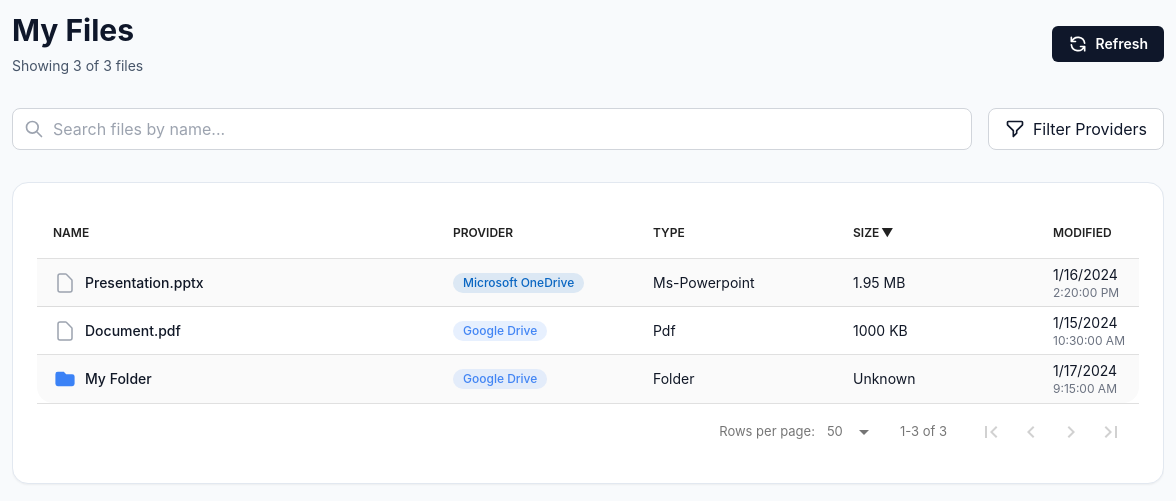
FilesPage › filters files by provider
Expected: the text "Document.pdf" is shown, [85,320,181,340]
Note: Open filter menu
Click the button "Filter Providers" at (1076, 129), box [988,108,1164,150]
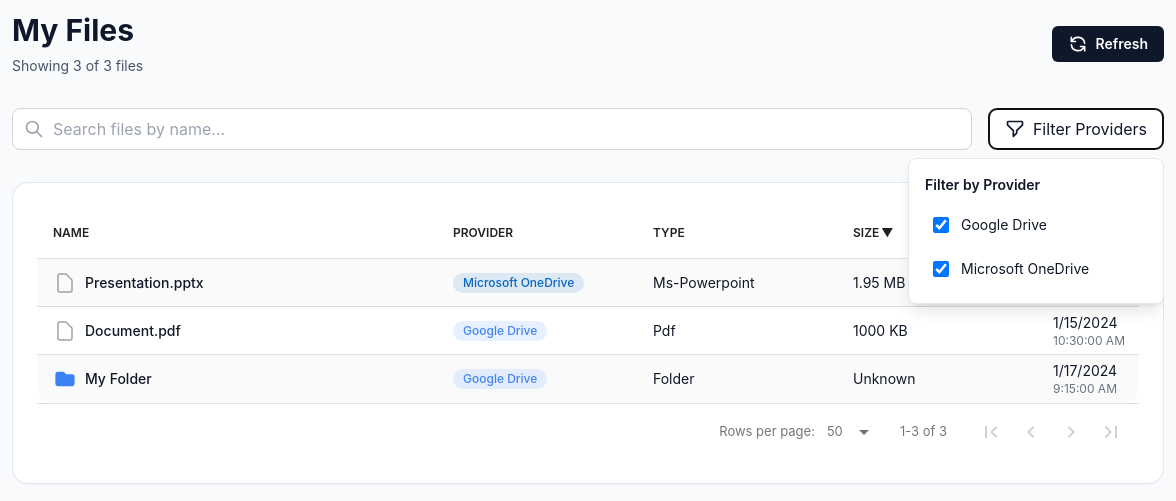
Click the checkbox labelled "Google Drive" at (941, 225), box [933,217,949,233]
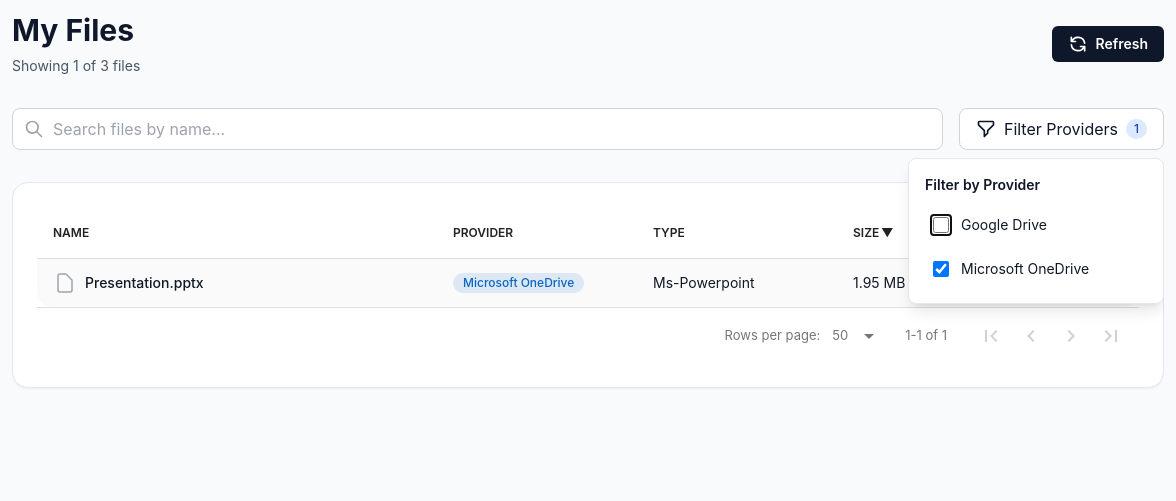
Expected: the text "Presentation.pptx" is shown, [85,273,204,293]
Expected: the text "Document.pdf" is gone
